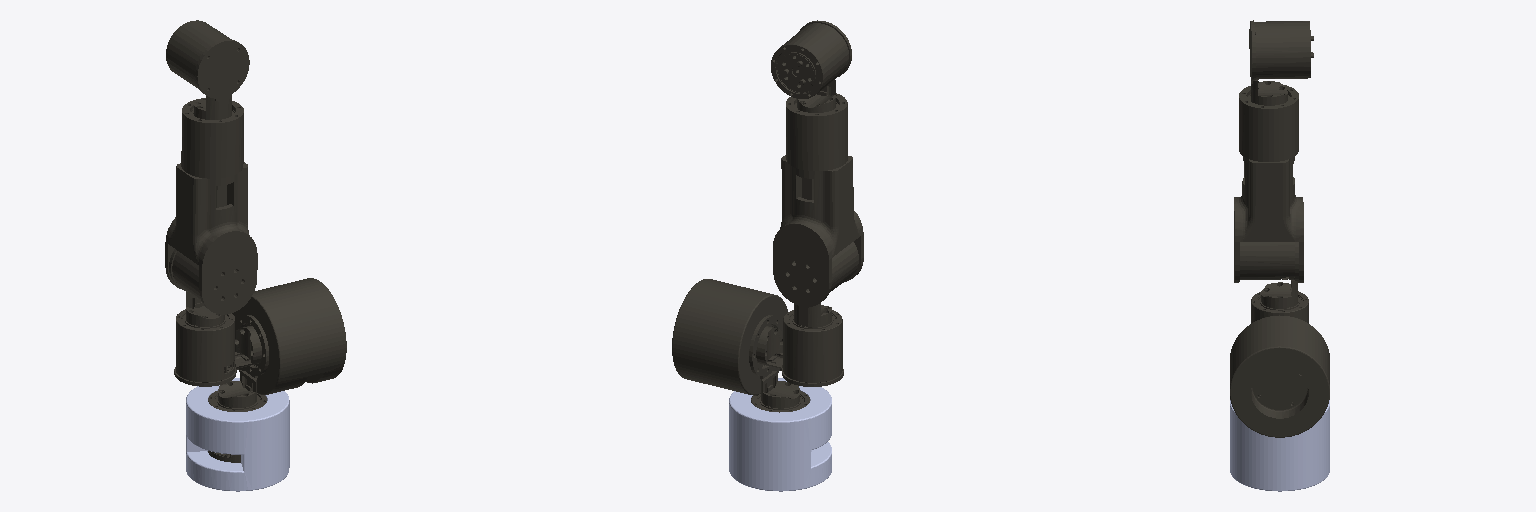
The robot description file, URDF, robot "arm_urdf":
<?xml version="1.0" encoding="utf-8"?>
<!-- This URDF was automatically created by SolidWorks to URDF Exporter! Originally created by Stephen Brawner (brawner@gmail.com) 
     Commit Version: 1.6.0-4-g7f85cfe  Build Version: 1.6.7995.38578
     For more information, please see http://wiki.ros.org/sw_urdf_exporter -->
<robot
  name="arm_urdf">
  <link
    name="base_link">
    <inertial>
      <origin
        xyz="0.00165237880691796 0.000653236412099384 0.0140338323066459"
        rpy="0 0 0" />
      <mass
        value="0.192076018150614" />
      <inertia
        ixx="0.000164377546633951"
        ixy="2.93419490444159E-06"
        ixz="1.80426013043874E-06"
        iyy="0.000158115404846357"
        iyz="7.13271978257934E-07"
        izz="0.00020177724103766" />
    </inertial>
    <visual>
      <origin
        xyz="0 0 0"
        rpy="0 0 0" />
      <geometry>
        <mesh
          filename="package://arm_urdf/meshes/base_link.STL" />
      </geometry>
      <material
        name="">
        <color
          rgba="0.792156862745098 0.819607843137255 0.933333333333333 1" />
      </material>
    </visual>
    <collision>
      <origin
        xyz="0 0 0"
        rpy="0 0 0" />
      <geometry>
        <mesh
          filename="package://arm_urdf/meshes/base_link.STL" />
      </geometry>
    </collision>
  </link>
  <link
    name="Link1">
    <inertial>
      <origin
        xyz="0.0375506240193476 0.000364828195735439 0.0959634343875544"
        rpy="0 0 0" />
      <mass
        value="0.228387283347503" />
      <inertia
        ixx="0.000216893502309988"
        ixy="-4.88857032629495E-07"
        ixz="-2.65541612913788E-06"
        iyy="0.000172346878866004"
        iyz="2.04673937915496E-06"
        izz="0.000176121251811701" />
    </inertial>
    <visual>
      <origin
        xyz="0 0 0"
        rpy="0 0 0" />
      <geometry>
        <mesh
          filename="package://arm_urdf/meshes/Link1.STL" />
      </geometry>
      <material
        name="">
        <color
          rgba="0.301960784313725 0.290196078431373 0.262745098039216 1" />
      </material>
    </visual>
    <collision>
      <origin
        xyz="0 0 0"
        rpy="0 0 0" />
      <geometry>
        <mesh
          filename="package://arm_urdf/meshes/Link1.STL" />
      </geometry>
    </collision>
  </link>
  <joint
    name="joint1"
    type="revolute">
    <origin
      xyz="0 0 -0.016"
      rpy="0 0 0" />
    <parent
      link="base_link" />
    <child
      link="Link1" />
    <axis
      xyz="0 0 1" />
    <limit lower="-3.1416" upper="3.1416" effort="6.0" velocity="10.0"/>
  </joint>
  <link
    name="Link2">
    <inertial>
      <origin
        xyz="0.000889556135252614 -0.00183805777823758 0.0367626591036705"
        rpy="0 0 0" />
      <mass
        value="0.0395784994595645" />
      <inertia
        ixx="1.68401206286516E-05"
        ixy="-1.52726862889466E-07"
        ixz="-3.99643549913033E-07"
        iyy="1.71532185704624E-05"
        iyz="1.10289064164758E-06"
        izz="1.15293056271301E-05" />
    </inertial>
    <visual>
      <origin
        xyz="0 0 0"
        rpy="0 0 0" />
      <geometry>
        <mesh
          filename="package://arm_urdf/meshes/Link2.STL" />
      </geometry>
      <material
        name="">
        <color
          rgba="0.301960784313725 0.290196078431373 0.262745098039216 1" />
      </material>
    </visual>
    <collision>
      <origin
        xyz="0 0 0"
        rpy="0 0 0" />
      <geometry>
        <mesh
          filename="package://arm_urdf/meshes/Link2.STL" />
      </geometry>
    </collision>
  </link>
  <joint
    name="joint2"
    type="revolute">
    <origin
      xyz="0.0585 0 0.10325"
      rpy="1.570792 0.398980 -1.570805" />
    <parent
      link="Link1" />
    <child
      link="Link2" />
    <axis
      xyz="0 0 -1" />
    <limit lower="-3.1416" upper="3.1416" effort="6.0" velocity="10.0"/>
  </joint>
  <link
    name="Link3">
    <inertial>
      <origin
        xyz="0.0019539017454888 -5.38647109620399E-05 0.0367626304930365"
        rpy="0 0 0" />
      <mass
        value="0.0395784475416132" />
      <inertia
        ixx="1.71995639997688E-05"
        ixy="-3.05931783938438E-09"
        ixz="-1.22000157839919E-06"
        iyy="1.67937509147446E-05"
        iyz="-3.36844379745023E-08"
        izz="1.15292960295111E-05" />
    </inertial>
    <visual>
      <origin
        xyz="0 0 0"
        rpy="0 0 0" />
      <geometry>
        <mesh
          filename="package://arm_urdf/meshes/Link3.STL" />
      </geometry>
      <material
        name="">
        <color
          rgba="0.301960784313725 0.290196078431373 0.262745098039216 1" />
      </material>
    </visual>
    <collision>
      <origin
        xyz="0 0 0"
        rpy="0 0 0" />
      <geometry>
        <mesh
          filename="package://arm_urdf/meshes/Link3.STL" />
      </geometry>
    </collision>
  </link>
  <joint
    name="joint3"
    type="revolute">
    <origin
      xyz="0.0044805 -0.010591 0.087253"
      rpy="1.570800 -0.014345 -2.741401" />
    <parent
      link="Link2" />
    <child
      link="Link3" />
    <axis
      xyz="0 0 -1" />
    <limit lower="-3.1416" upper="3.1416" effort="6.0" velocity="10.0"/>
  </joint>
  <link
    name="Link4">
    <inertial>
      <origin
        xyz="-0.0363476210360283 2.07744264722198E-05 0.0218296169855355"
        rpy="0 0 0" />
      <mass
        value="0.102586319253978" />
      <inertia
        ixx="5.60340448159623E-05"
        ixy="-3.13867434866366E-09"
        ixz="5.18318700326504E-08"
        iyy="9.879905254637E-05"
        iyz="3.3605231112231E-08"
        izz="9.26016951462404E-05" />
    </inertial>
    <visual>
      <origin
        xyz="0 0 0"
        rpy="0 0 0" />
      <geometry>
        <mesh
          filename="package://arm_urdf/meshes/Link4.STL" />
      </geometry>
      <material
        name="">
        <color
          rgba="0.301960784313725 0.290196078431373 0.262745098039216 1" />
      </material>
    </visual>
    <collision>
      <origin
        xyz="0 0 0"
        rpy="0 0 0" />
      <geometry>
        <mesh
          filename="package://arm_urdf/meshes/Link4.STL" />
      </geometry>
    </collision>
  </link>
  <joint
    name="joint4"
    type="revolute">
    <origin
      xyz="0.0115 0 0.087253"
      rpy="-1.571101 1.559587 1.570487" />
    <parent
      link="Link3" />
    <child
      link="Link4" />
    <axis
      xyz="0 0 -1" />
    <limit lower="-3.1416" upper="3.1416" effort="6.0" velocity="10.0"/>
  </joint>
  <link
    name="Link5">
    <inertial>
      <origin
        xyz="0.00195392305181297 -5.39016601637243E-05 0.0367625910939153"
        rpy="0 0 0" />
      <mass
        value="0.0395783821869079" />
      <inertia
        ixx="1.71995654875121E-05"
        ixy="-3.08428678491661E-09"
        ixz="-1.21999326526102E-06"
        iyy="1.67937221299546E-05"
        iyz="-3.37009672912755E-08"
        izz="1.15292796455694E-05" />
    </inertial>
    <visual>
      <origin
        xyz="0 0 0"
        rpy="0 0 0" />
      <geometry>
        <mesh
          filename="package://arm_urdf/meshes/Link5.STL" />
      </geometry>
      <material
        name="">
        <color
          rgba="0.301960784313725 0.290196078431373 0.262745098039216 1" />
      </material>
    </visual>
    <collision>
      <origin
        xyz="0 0 0"
        rpy="0 0 0" />
      <geometry>
        <mesh
          filename="package://arm_urdf/meshes/Link5.STL" />
      </geometry>
    </collision>
  </link>
  <joint
    name="joint5"
    type="revolute">
    <origin
      xyz="-0.0899999999980462 0 0.0204999999959265"
      rpy="-1.570796 -1.535706 1.570796" />
    <parent
      link="Link4" />
    <child
      link="Link5" />
    <axis
      xyz="0 0 1" />
    <limit lower="-3.1416" upper="3.1416" effort="6.0" velocity="10.0"/>
  </joint>
  <link
    name="Link6">
    <inertial>
      <origin
        xyz="-0.000104407240438059 -9.41948890727309E-05 0.0251944930913252"
        rpy="0 0 0" />
      <mass
        value="0.0290550461188644" />
      <inertia
        ixx="1.15132217412787E-05"
        ixy="-6.03219682385138E-09"
        ixz="-4.47079285606331E-08"
        iyy="1.15272192627163E-05"
        iyz="-4.26187441641411E-08"
        izz="9.8267030846922E-06" />
    </inertial>
    <visual>
      <origin
        xyz="0 0 0"
        rpy="0 0 0" />
      <geometry>
        <mesh
          filename="package://arm_urdf/meshes/Link6.STL" />
      </geometry>
      <material
        name="">
        <color
          rgba="0.301960784313725 0.290196078431373 0.262745098039216 1" />
      </material>
    </visual>
    <collision>
      <origin
        xyz="0 0 0"
        rpy="0 0 0" />
      <geometry>
        <mesh
          filename="package://arm_urdf/meshes/Link6.STL" />
      </geometry>
    </collision>
  </link>
  <joint
    name="joint6"
    type="revolute">
    <origin
      xyz="0.0115 0 0.087253"
      rpy="1.5708 -1.0088 -1.5708" />
    <parent
      link="Link5" />
    <child
      link="Link6" />
    <axis
      xyz="0 0 -1" />
    <limit lower="-1.5700" upper="1.5700" effort="6.0" velocity="10.0"/>
  </joint>
</robot>

--- Render facts (derived) ---
Views: 3 orthographic renders of the robot side by side, from view 1: azimuth 30°, elevation 25°; view 2: azimuth 150°, elevation 25°; view 3: azimuth 270°, elevation 25°.
Robot: arm_urdf — 7 links, 6 joints (6 revolute); root link base_link; default pose: every joint at zero.
Links seen in each view (by area): view 1: Link4, Link1, base_link, Link3, Link5, Link6, Link2; view 2: Link4, Link1, base_link, Link3, Link6, Link2, Link5; view 3: Link4, Link1, base_link, Link6, Link3, Link5.
Link boxes in pixels (<box>): Link4: <box>165,98,257,314</box>; Link1: <box>208,278,346,462</box>; base_link: <box>186,378,289,491</box>; Link3: <box>169,249,234,382</box>; Link5: <box>190,39,249,119</box>; Link6: <box>166,20,231,89</box>; Link2: <box>174,323,261,386</box>; Link4: <box>773,93,863,306</box>; Link1: <box>672,279,809,412</box>; base_link: <box>729,378,831,491</box>; Link3: <box>783,262,842,382</box>; Link6: <box>771,23,848,98</box>; Link2: <box>756,323,843,386</box>; Link5: <box>794,20,851,112</box>; Link4: <box>1234,85,1303,282</box>; Link1: <box>1230,315,1329,437</box>; base_link: <box>1230,400,1329,491</box>; Link6: <box>1255,21,1313,79</box>; Link3: <box>1251,242,1308,323</box>; Link5: <box>1247,20,1290,105</box>.
Size in the robot's own frame: 0.1285 by 0.08 by 0.3802 metres.
7 mesh visuals loaded from 7 distinct referenced files (7 binary STL).
